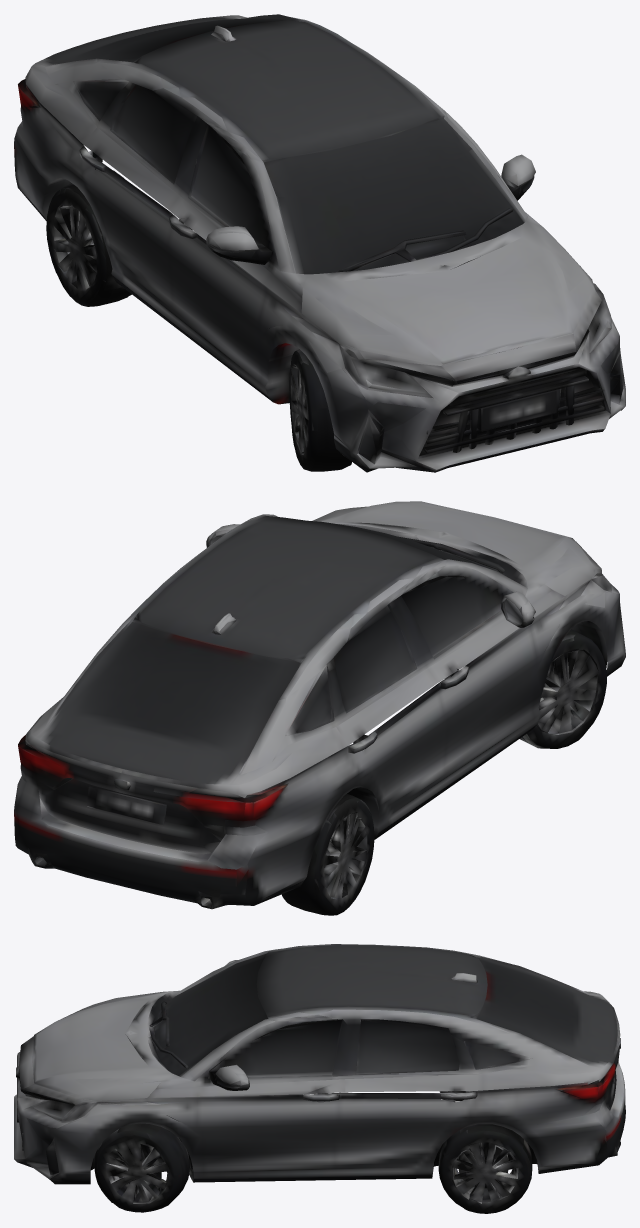
Rendered from sedan.glb.
3 renders of one model, top to bottom at view 1: azimuth 30°, elevation 25°; view 2: azimuth 150°, elevation 25°; view 3: azimuth 270°, elevation 25°, orthographic. The views are drawn at different scales.
Visible parts, largest first — view 1: tripo_node_edf159b9; view 2: tripo_node_edf159b9; view 3: tripo_node_edf159b9.
Part boxes in pixels (x1,y1,x2,y2): tripo_node_edf159b9: (14,14,625,472); tripo_node_edf159b9: (14,501,625,915); tripo_node_edf159b9: (14,944,625,1213).
Bounding box in the file's own units: 46.35 × 34.63 × 100.
Materials: 1 (1 with a texture image).
